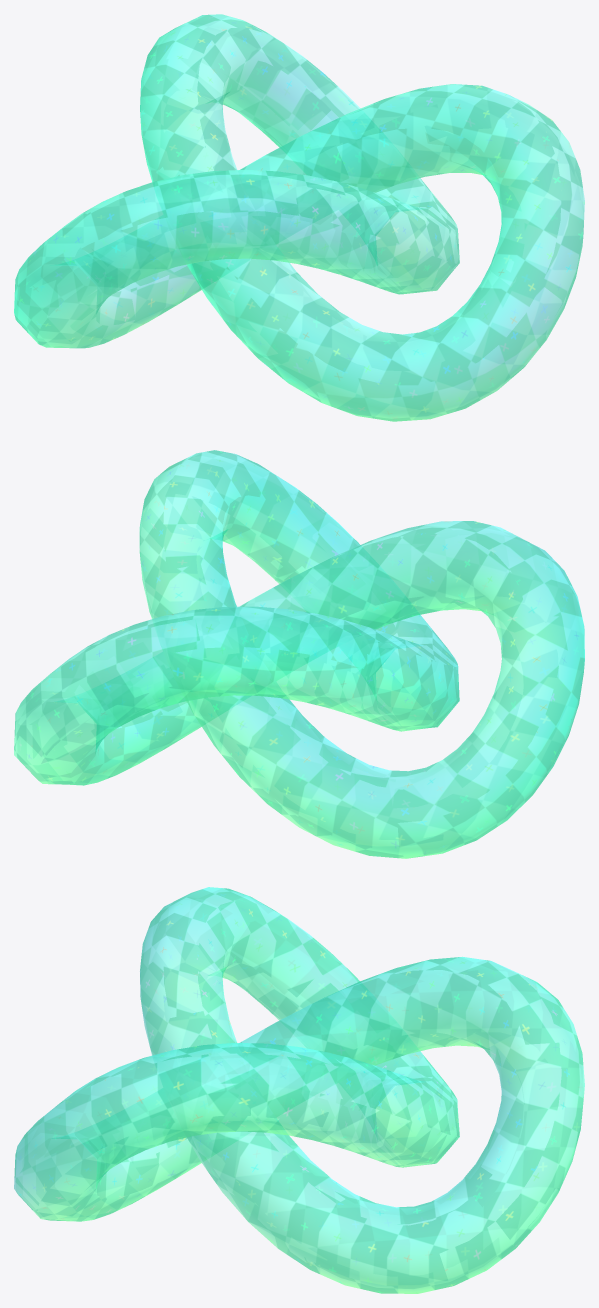
The model's file is TorusKnot.gltf.
3 views of the same model, one above another, from view 1: azimuth 30°, elevation 25°; view 2: azimuth 150°, elevation 25°; view 3: azimuth 270°, elevation 25° (orthographic).
Parts seen in each view (by area): view 1: TorusKnot; view 2: TorusKnot; view 3: TorusKnot.
Boxes of the visible parts, x1=… form: TorusKnot: x1=14, y1=14, x2=584, y2=421; TorusKnot: x1=14, y1=450, x2=584, y2=858; TorusKnot: x1=14, y1=887, x2=584, y2=1293.
Size of the model in its own units: 6.04 by 2.96 by 6.41.
Materials: 1 (1 with a texture image).
